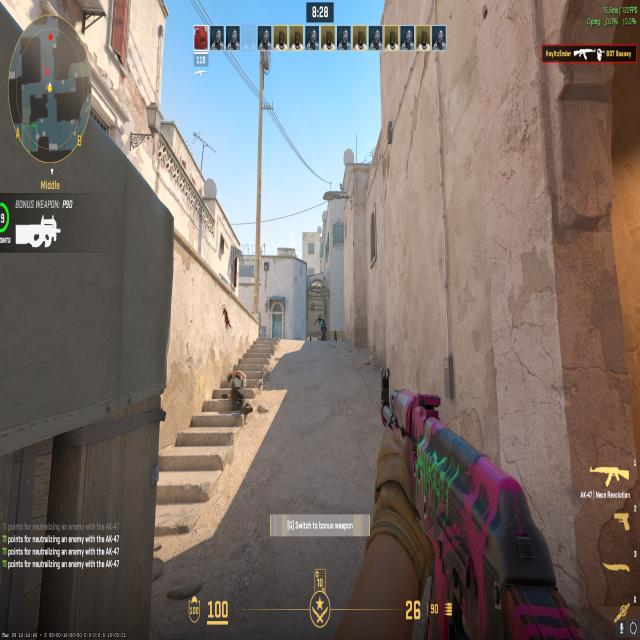ct: (320, 314, 328, 342)
